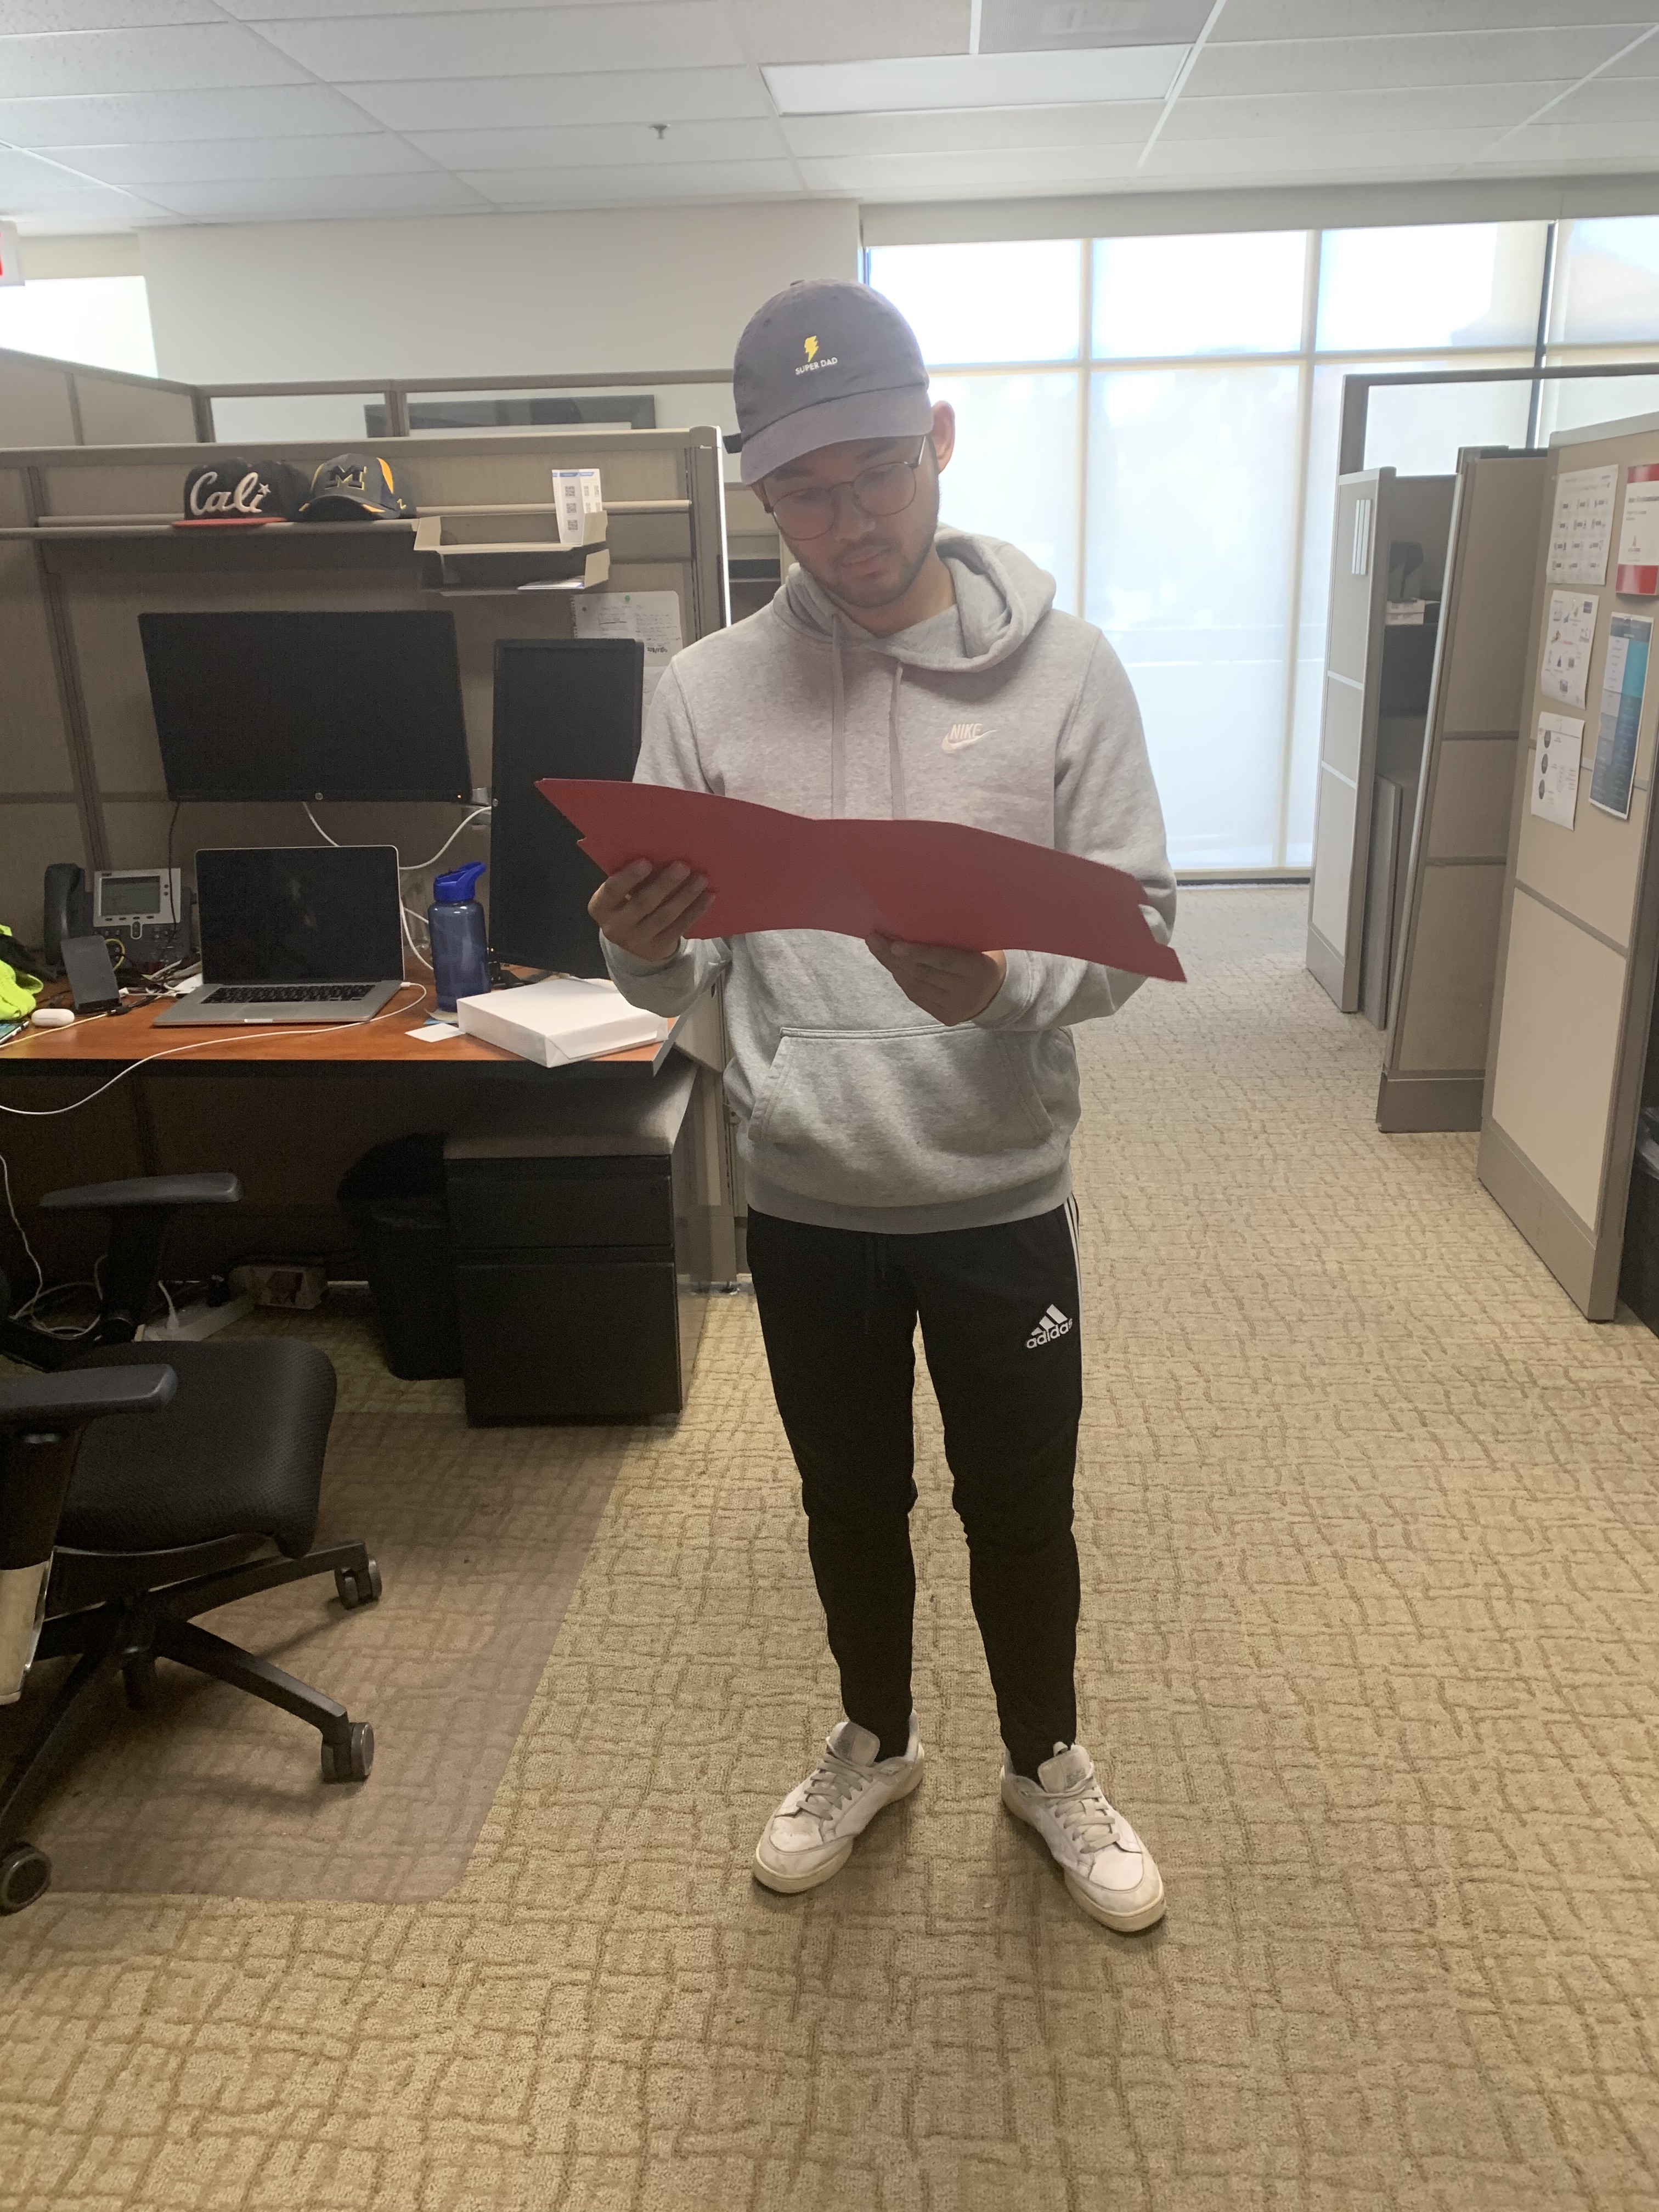red folder: (518, 749, 1229, 1038)
